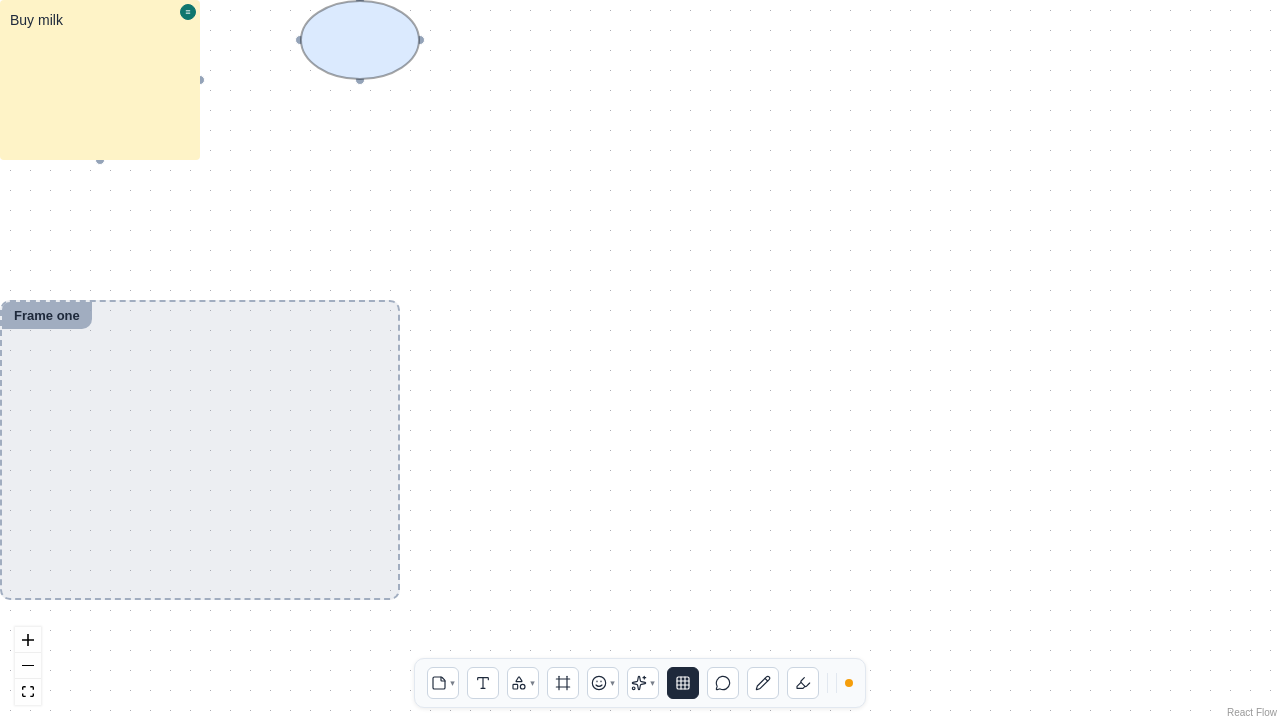
Test: BoardCanvas › clicking a node's description badge opens the modal pre-filled with its description
The width and height of the screenshot is (1280, 720).
Click the button titled "View description".
click(188, 12)  # box [180,4,196,20]
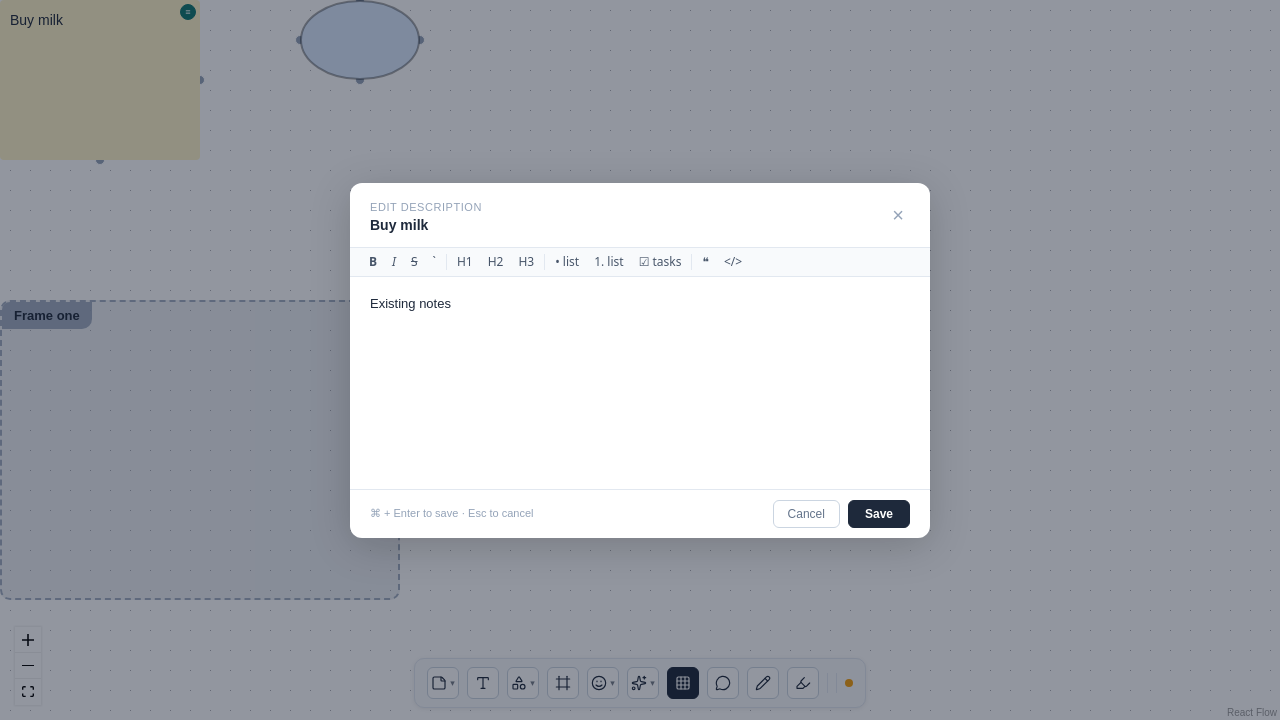
Now the text "Edit description" is shown, box [370,200,482,212]
Now the text box "Existing notes" is shown, box [370,296,451,310]
